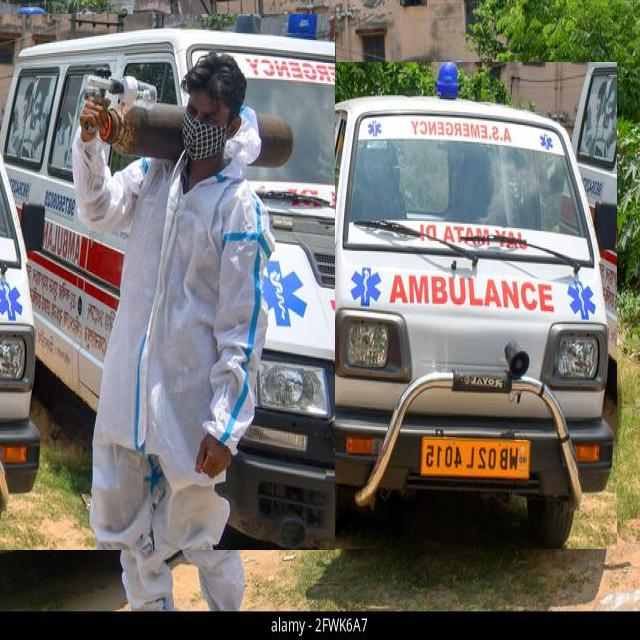emergency: (0, 15, 335, 550), (291, 63, 617, 549)
